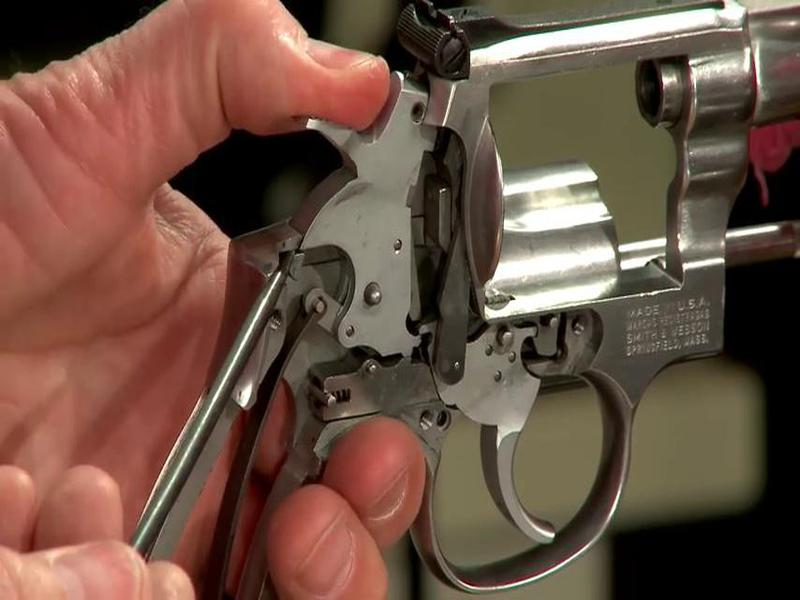Revolver: (108, 14, 800, 554)
